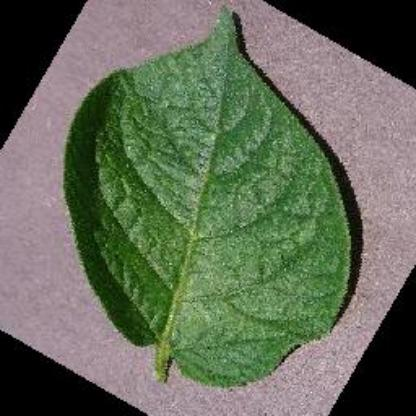Healthy-plant: (66, 7, 384, 386)
